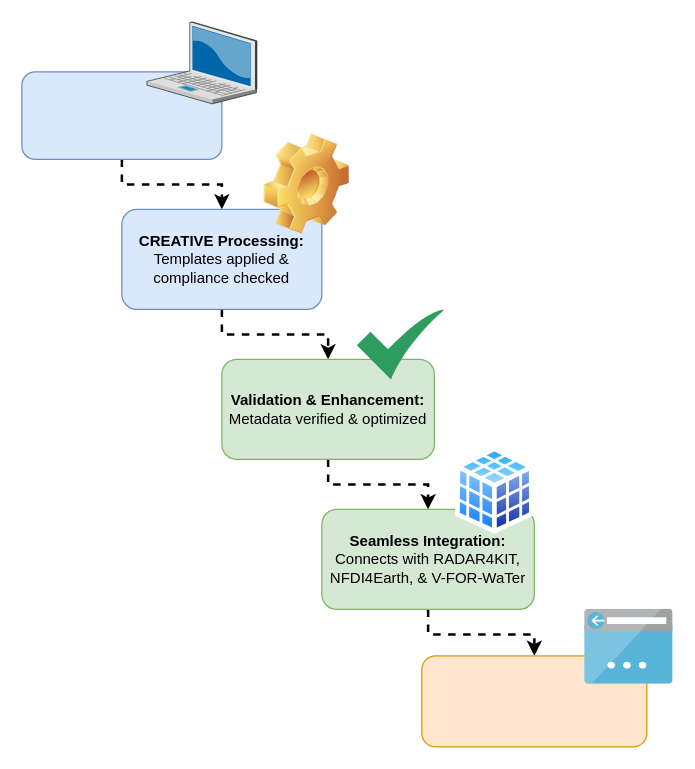
Image size: 695x769. Some labels were removed from this diagram. The shapes that lost their labels are listed below. From the top down, each one's box as (x1, y1, x2, y2) in pixels, then its label:
(21, 71, 222, 159): User Input: Researchers enter metadata
(421, 655, 647, 747): Final Publication: Data published & discoverable
